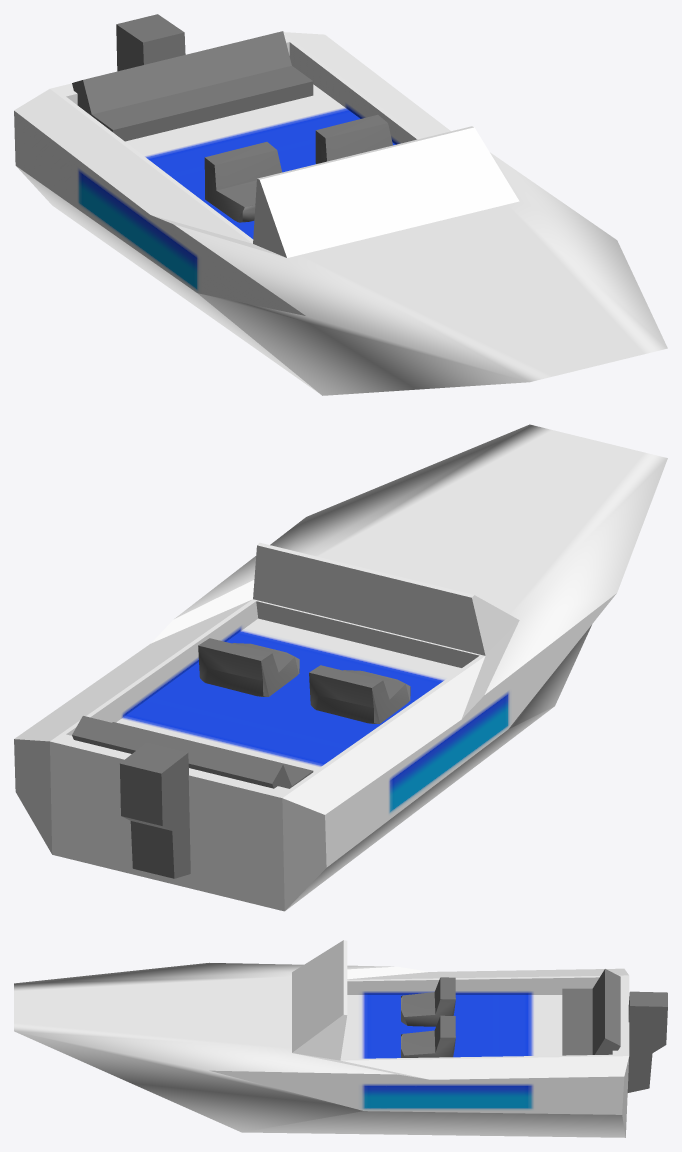
File: barco.obj
3 renders of one model, top to bottom at view 1: azimuth 30°, elevation 25°; view 2: azimuth 150°, elevation 25°; view 3: azimuth 270°, elevation 25°, orthographic. The views are drawn at different scales.
Parts seen in each view (by area): view 1: boat1obj; view 2: boat1obj; view 3: boat1obj.
Boxes of the visible parts, box(x1,y1,x2,y2) form: boat1obj: box(14, 14, 667, 395); boat1obj: box(14, 424, 667, 911); boat1obj: box(14, 940, 667, 1137).
Size of the model in its own units: 46.82 by 24.31 by 120.
3 materials, 1 textured.
